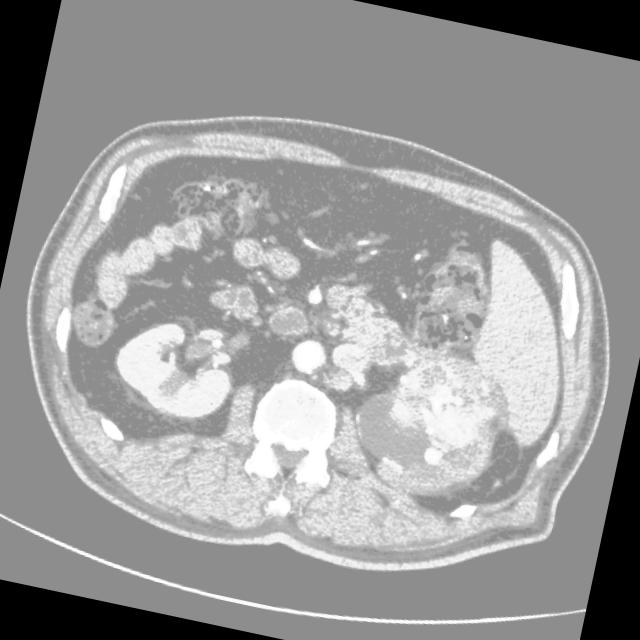TUMOR: (71, 253, 620, 570)
